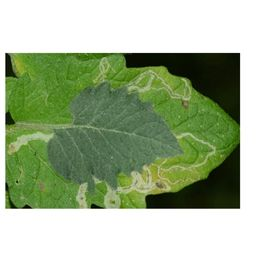liriomyza: (102, 132, 216, 209), (126, 69, 192, 100), (7, 129, 55, 156), (93, 57, 114, 88), (77, 182, 89, 208)
